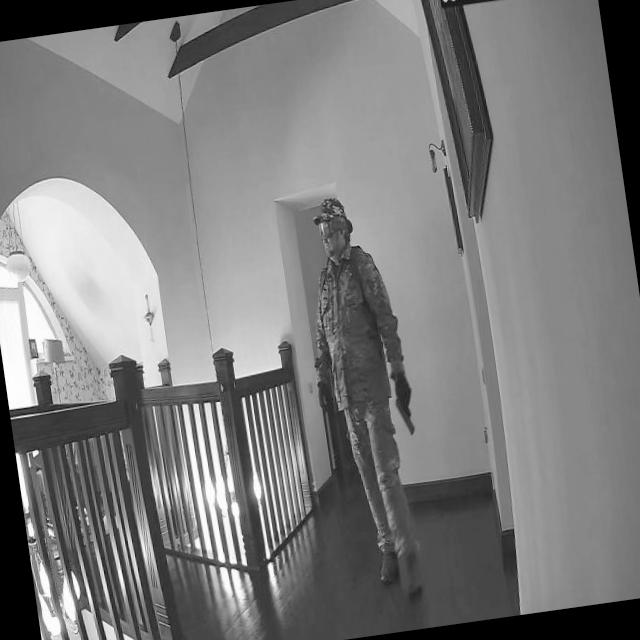gun: (394, 394, 416, 436)
person with a gun: (290, 190, 436, 608)
